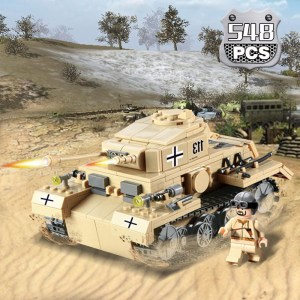Battle Tank: (33, 116, 287, 247)
